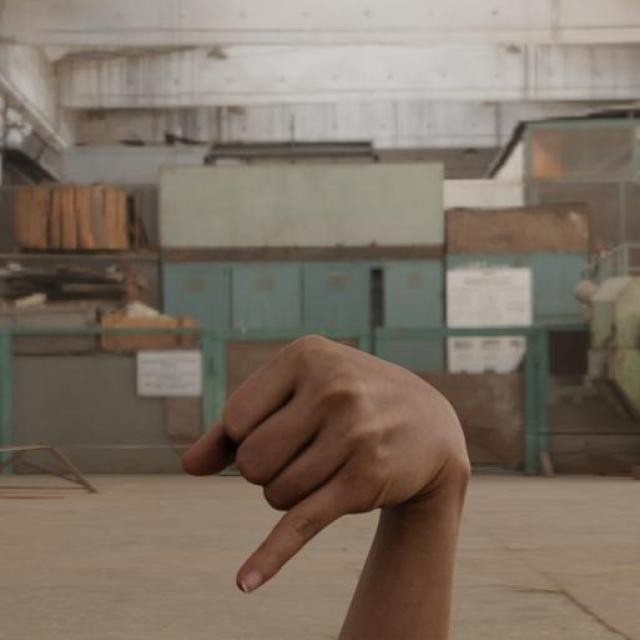J: (139, 321, 484, 640)
